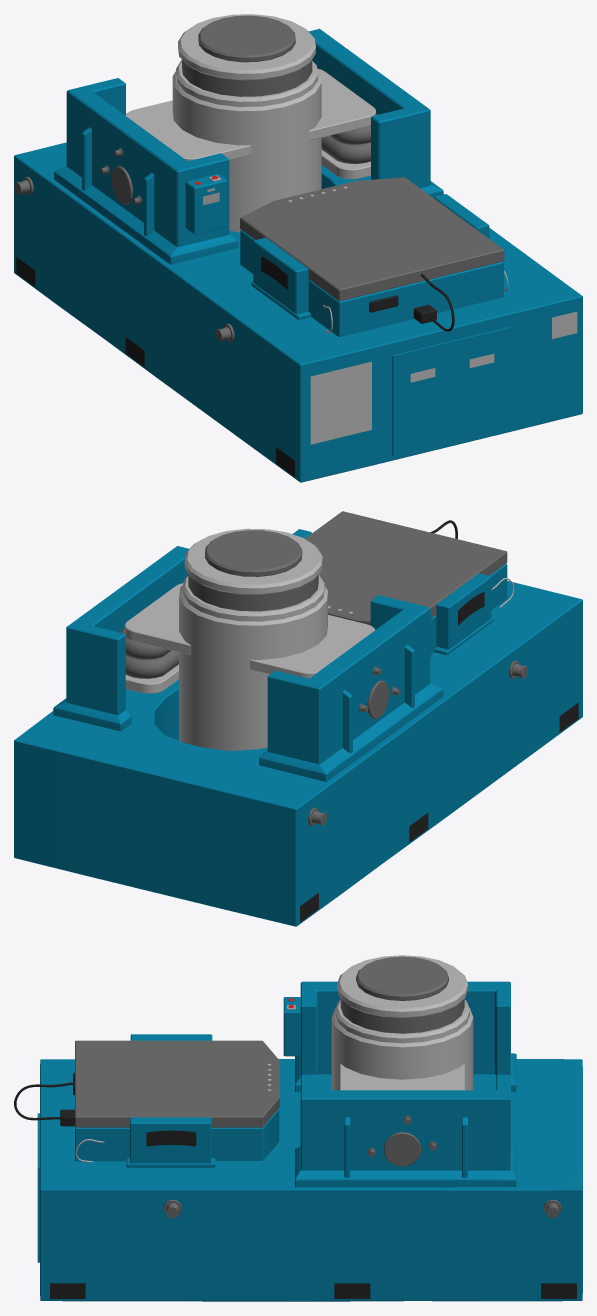
File: SYL1_03.fbx
3 views of the same model, one above another, from view 1: azimuth 30°, elevation 25°; view 2: azimuth 150°, elevation 25°; view 3: azimuth 270°, elevation 25° (orthographic). The views are drawn at different scales.
Parts seen in each view (by area): view 1: SYL1_03; view 2: SYL1_03; view 3: SYL1_03.
Part boxes in pixels (x1,y1,x2,y2): SYL1_03: [14, 14, 582, 482]; SYL1_03: [14, 511, 582, 926]; SYL1_03: [14, 955, 582, 1301].
Bounding box in the file's own units: 212 × 182 × 361.
